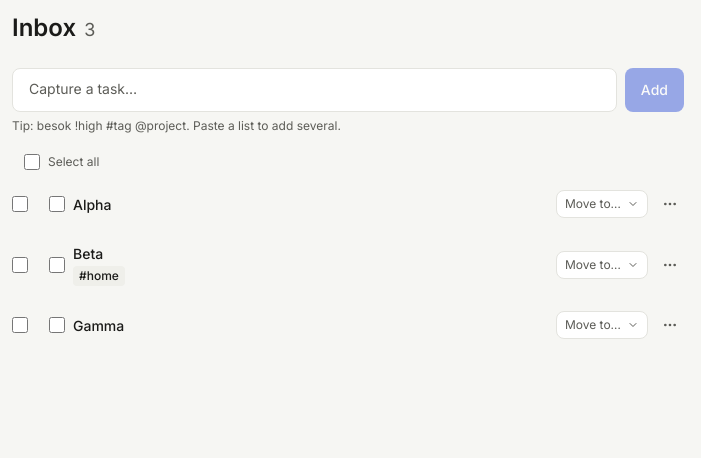
Test: Inbox bulk actions › shows the bar only while something is selected
This screenshot has width=701, height=458.
Expected: the button "Alpha" is shown, x1=73 y1=194 x2=535 y2=214
Click the checkbox named "Select task: Alpha": (20, 204) x1=12 y1=196 x2=28 y2=212
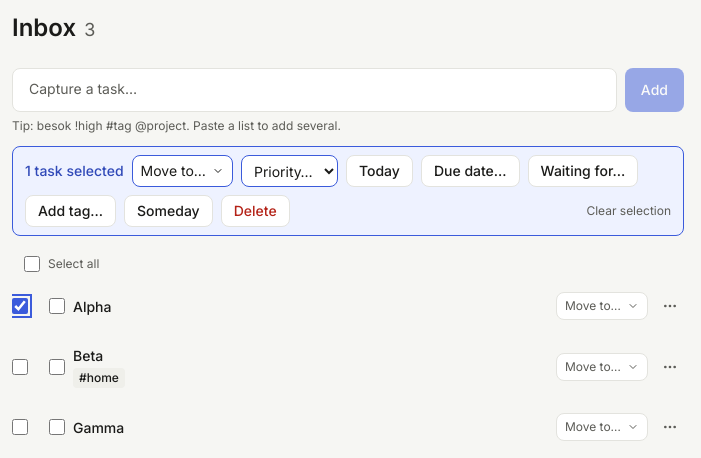
Result: the text "1 task selected" is shown at x1=25 y1=161 x2=124 y2=181
